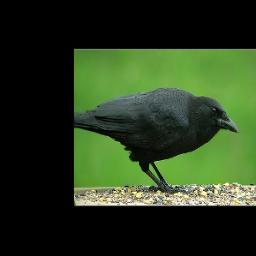Crow: (73, 88, 239, 197)
